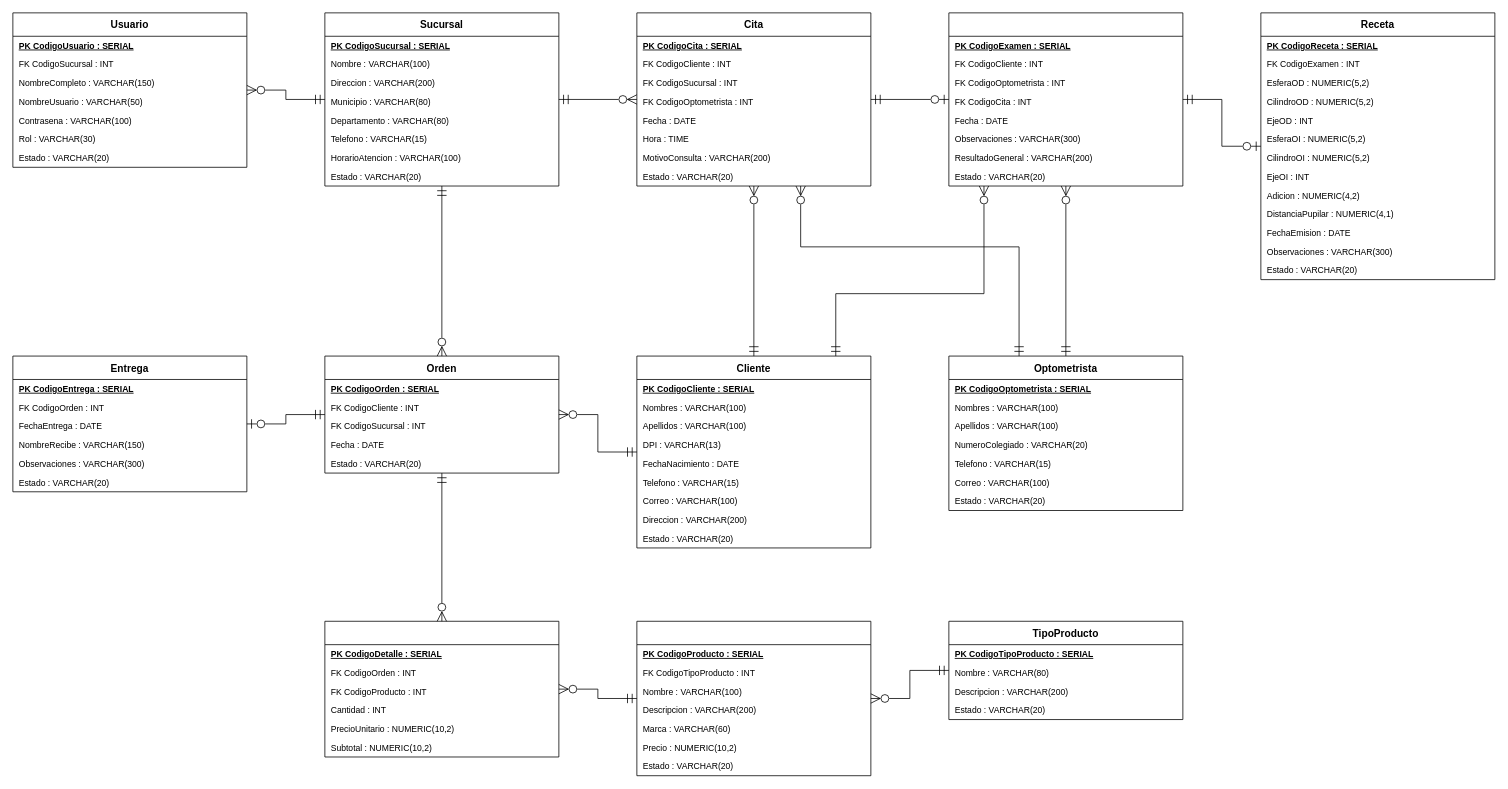
This 1508x789 diagram has some shape labels left out. Here are the shapes that lost their labels. From the top down, the box of each, then its label:
(948, 12, 1183, 186): ExamenVisual
(324, 620, 559, 757): DetalleOrden
(636, 620, 871, 776): ProductoOptico
